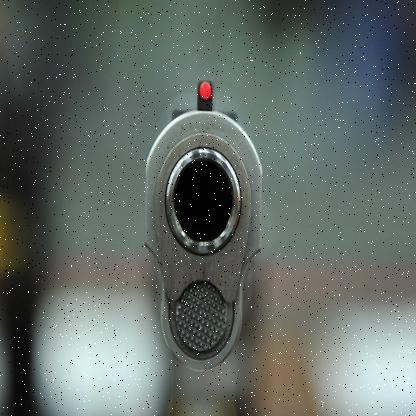pistol: (139, 50, 269, 414)
